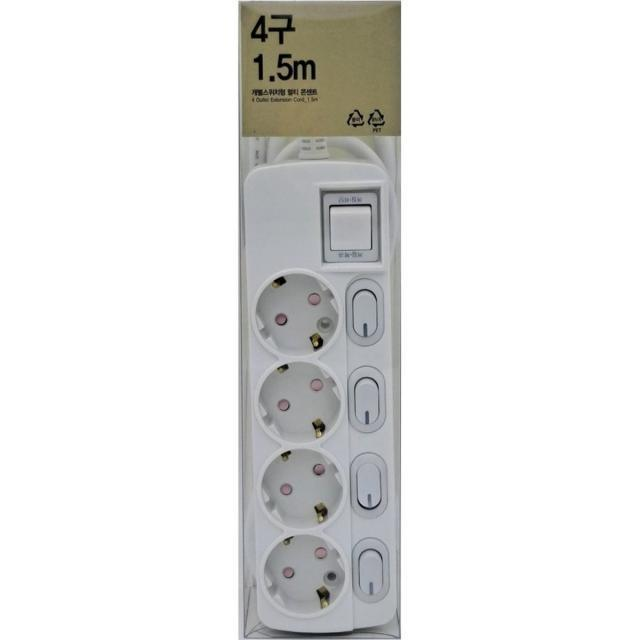typeb: (220, 143, 427, 640)
